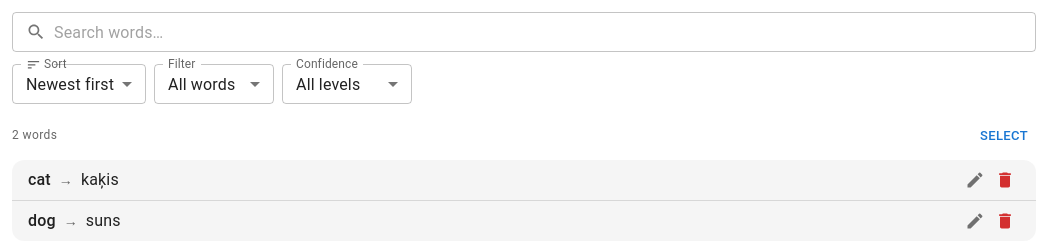
Test: WordList › should filter words by target word in search
The width and height of the screenshot is (1048, 246).
Type "kaķ" into the field labelled "Search words…" at [545, 32], box x1=54 y1=12 x2=1036 y2=52
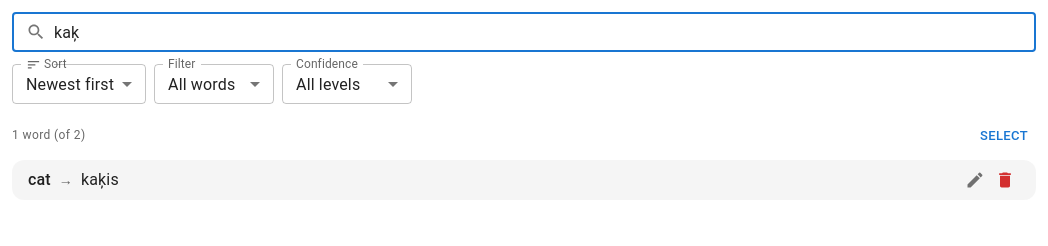
Expected: the text "cat" is shown, x1=28 y1=168 x2=51 y2=192
Expected: the text "dog" is gone
